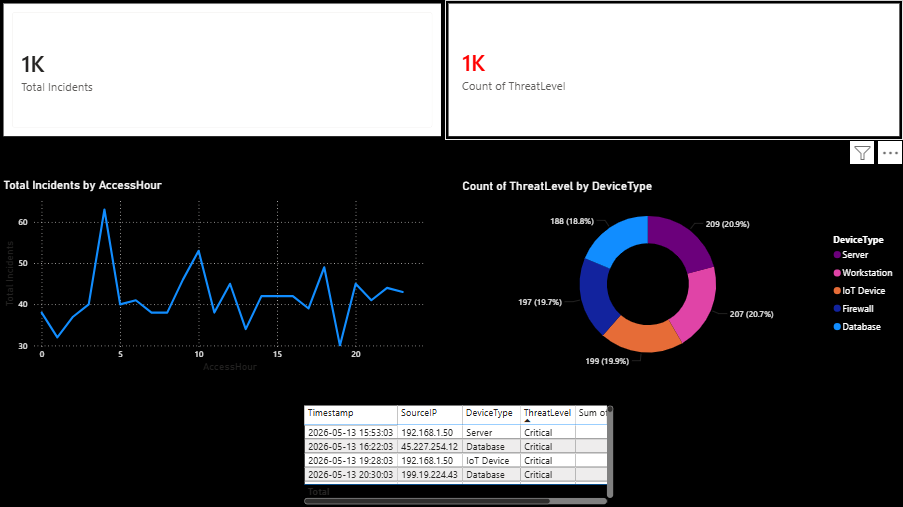

Layout of this report page (visuals, bound fields, positions):
{"tool":"powerbi","page":{"name":"Page 1","canvas":[1280,720],"ordinal":0},"visuals":[{"type":"lineChart","fields":{"Category":["network_security_logs.AccessHour"],"Y":["network_security_logs.Total Incidents"]},"box":[0,252,608.1,280.5],"z":0},{"type":"donutChart","fields":{"Category":["network_security_logs.DeviceType"],"Y":["CountNonNull(network_security_logs.ThreatLevel)"]},"box":[608.1,253.6,671.9,278.8],"z":1000},{"type":"tableEx","fields":{"Values":["network_security_logs.Timestamp","network_security_logs.SourceIP","network_security_logs.DeviceType","network_security_logs.ThreatLevel","Sum(network_security_logs.LoginAttempts)"]},"box":[383,569.4,448.5,151.2],"z":2000},{"type":"cardVisual","fields":{"Data":["network_security_logs.Total Incidents"]},"box":[0,0,608.1,198.2],"z":3000},{"type":"cardVisual","fields":{"Data":["CountNonNull(network_security_logs.ThreatLevel)"]},"box":[608.1,0,671.9,198.2],"z":4000}]}

Visuals, with their boxes in screenshot pixels (x1, y1, x2, y2), scaled from the page's 1280x720 canvas onto the 903x507 screenshot:
lineChart - network_security_logs.AccessHour x network_security_logs.Total Incidents: x1=0, y1=177, x2=429, y2=375
donutChart - network_security_logs.DeviceType x CountNonNull(network_security_logs.ThreatLevel): x1=429, y1=179, x2=902, y2=375
tableEx - network_security_logs.Timestamp x network_security_logs.SourceIP: x1=270, y1=401, x2=587, y2=506
cardVisual - network_security_logs.Total Incidents: x1=0, y1=0, x2=429, y2=140
cardVisual - CountNonNull(network_security_logs.ThreatLevel): x1=429, y1=0, x2=902, y2=140
